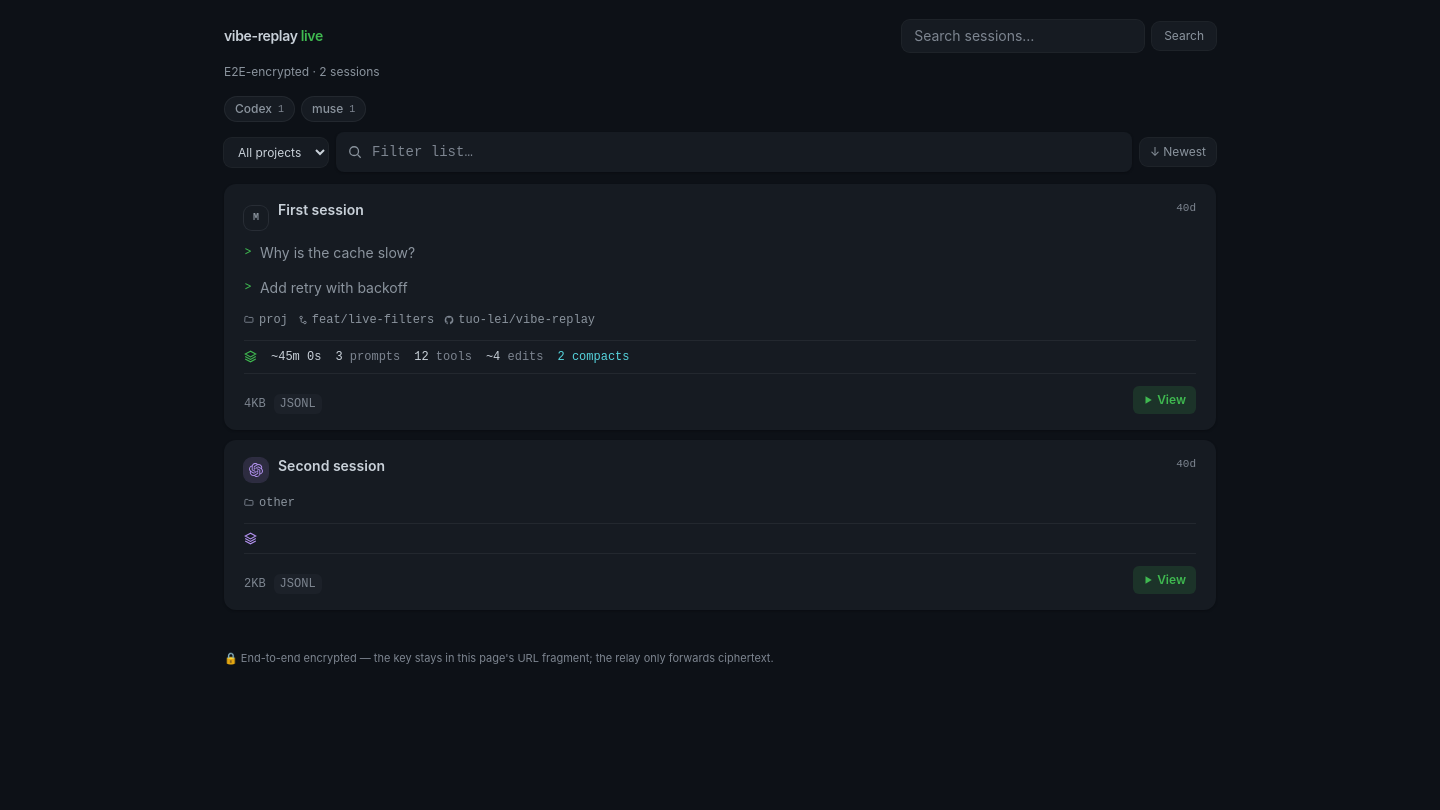
Test: LiveApp › resumes watch-live on the replacement client after a mid-session drop
The image size is (1440, 810).
What coordinates should you click on to do the following:
click the text "First session"
I would click on:
 (321, 210)
Its box is [278, 200, 364, 219].
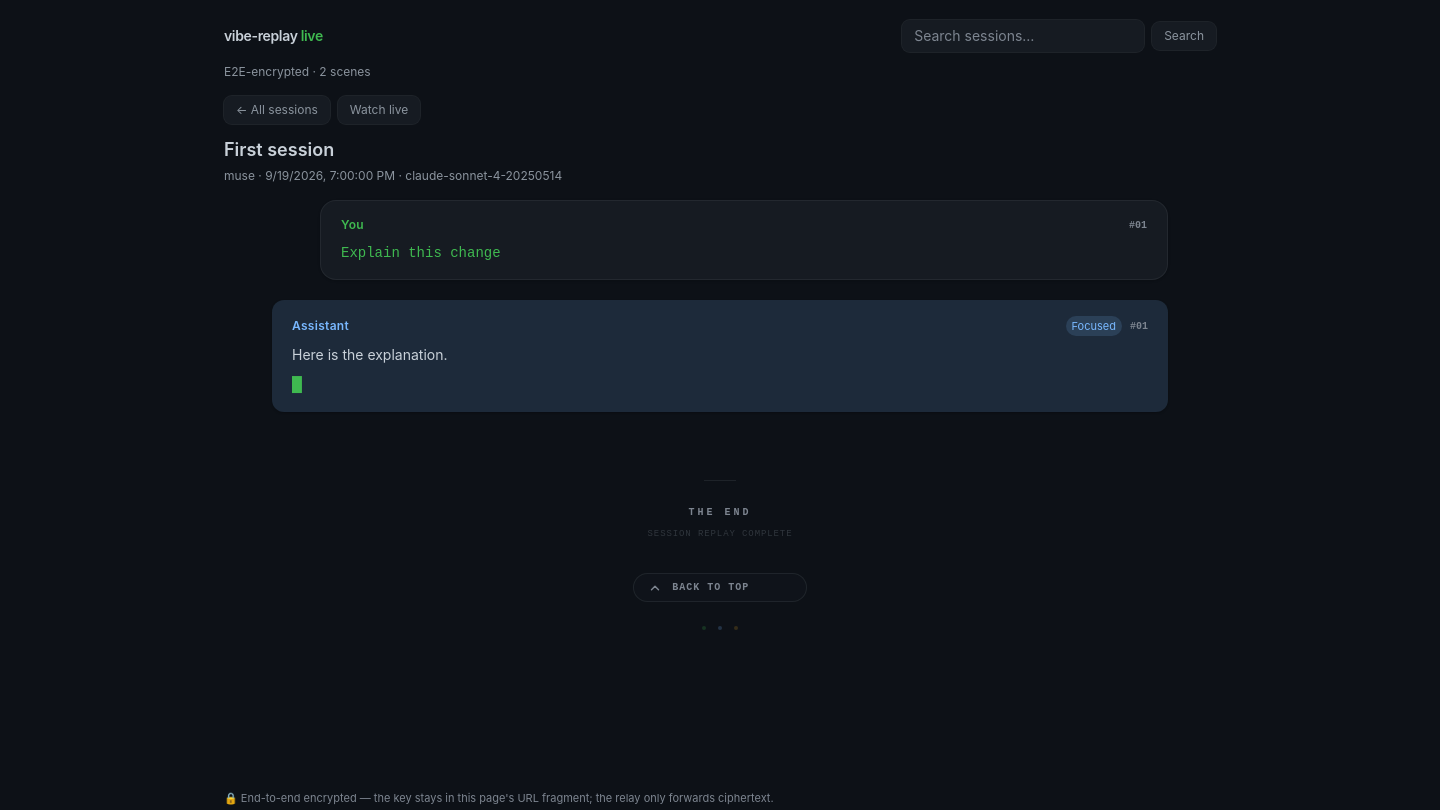
Expected: the text "Explain this change" is shown, [341, 245, 501, 261]
What coordinates should you click on to do the following:
click the button "Watch live"
I would click on:
 (379, 110)
Its box is [338, 96, 420, 124].
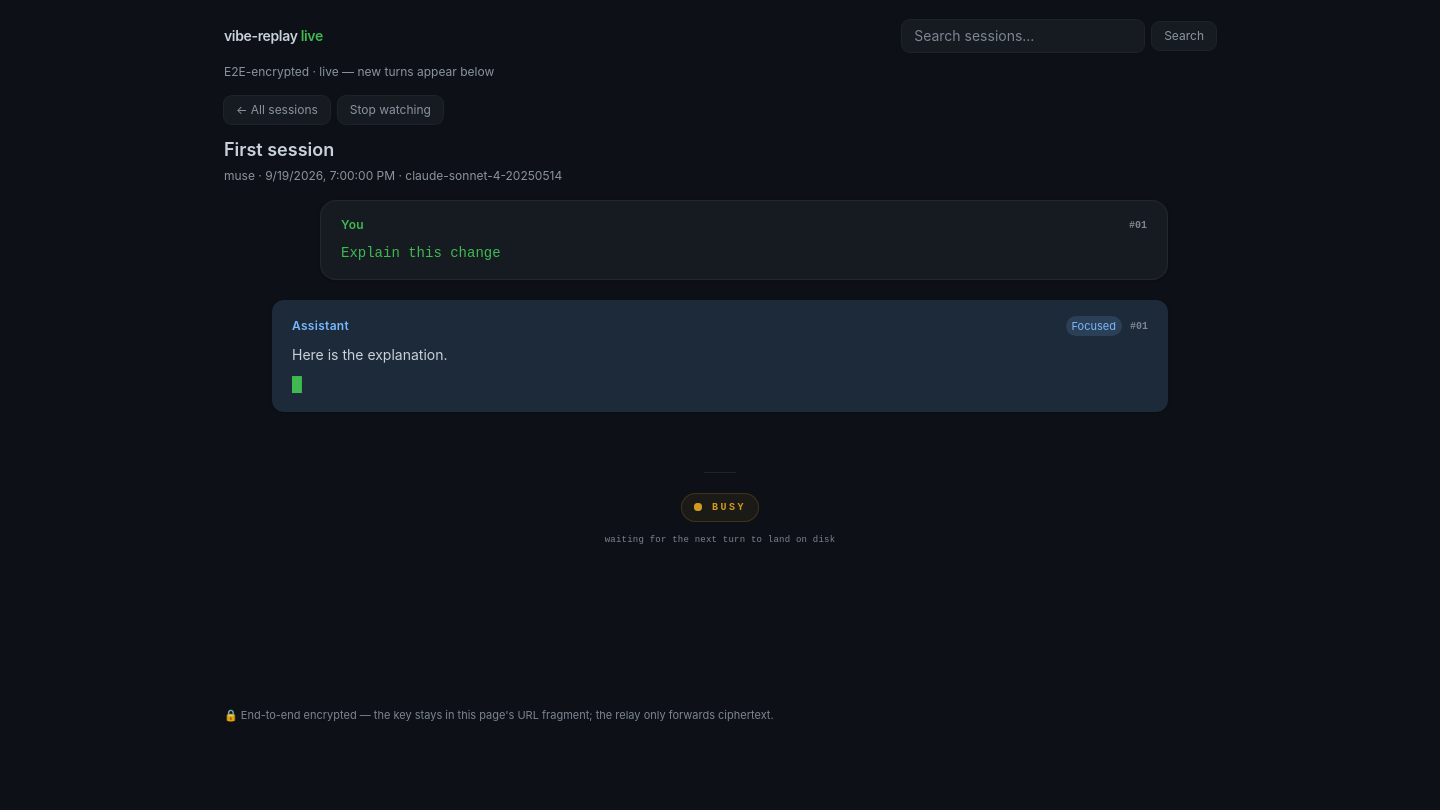
Expected: the text "E2E-encrypted · live — new turns appear below" is shown, [224, 64, 494, 79]
Expected: the button "Stop watching" is shown, [338, 96, 443, 124]
